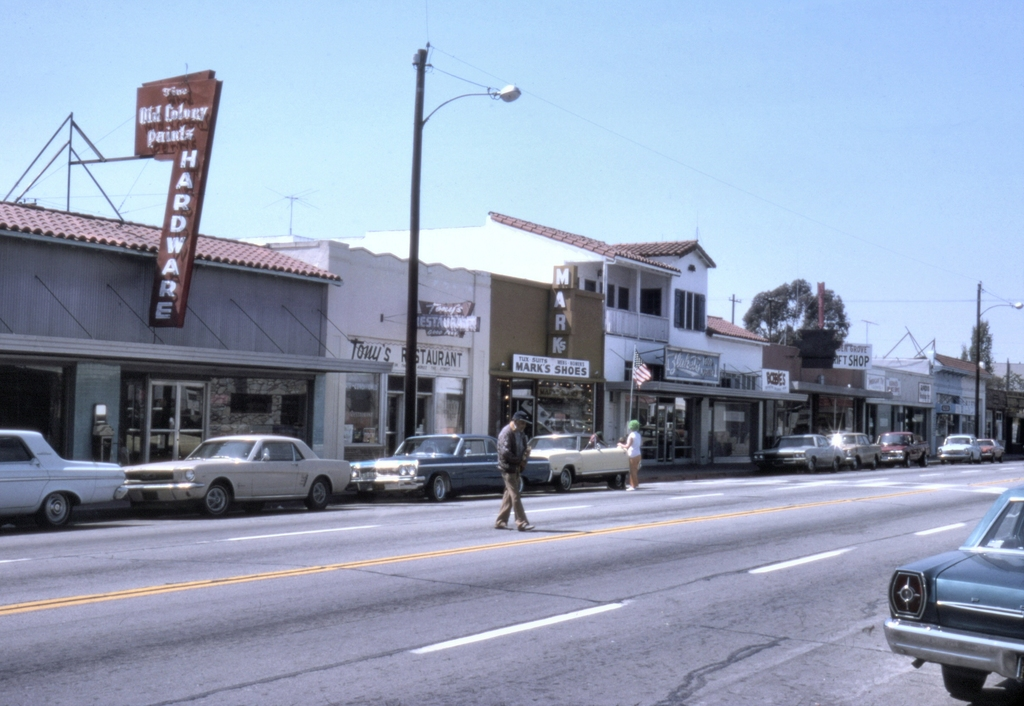cars: (880, 484, 1023, 701), (128, 428, 355, 516), (0, 429, 128, 531), (349, 434, 528, 505), (527, 434, 643, 495), (751, 434, 845, 477), (826, 433, 881, 471), (873, 432, 931, 468), (939, 436, 982, 466), (975, 438, 1005, 464)
